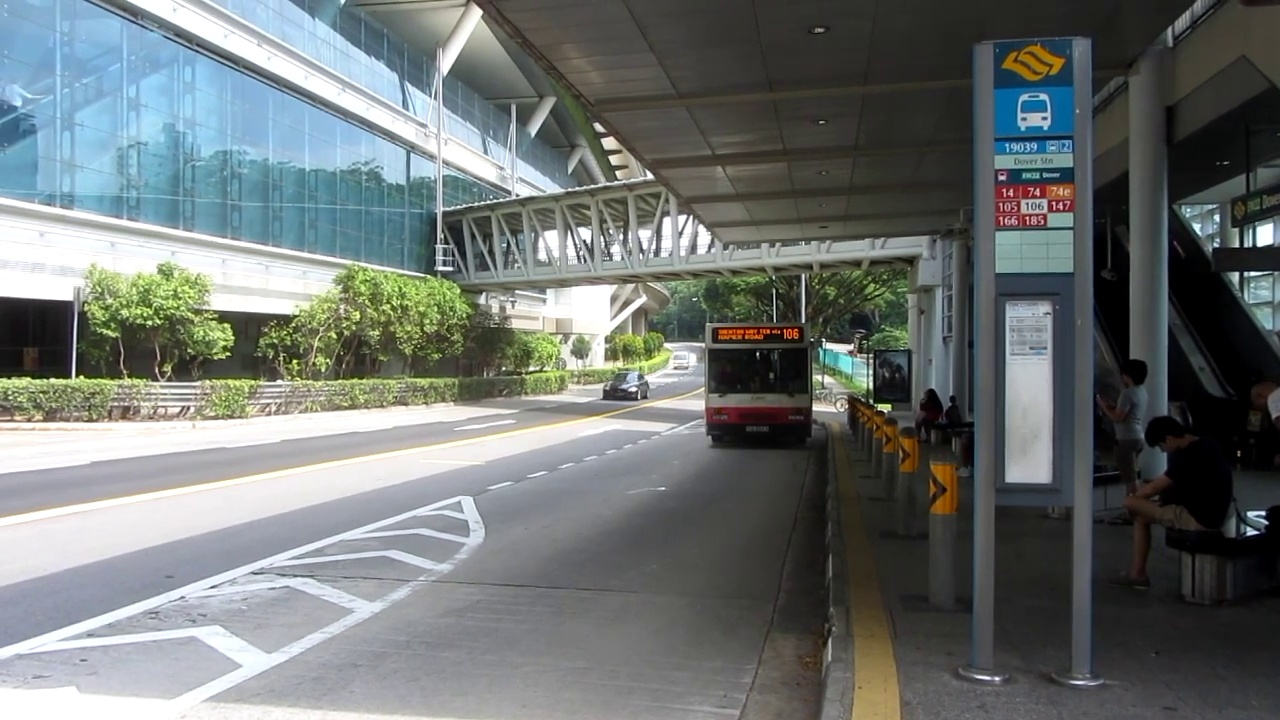bus panel: (711, 326, 806, 345)
